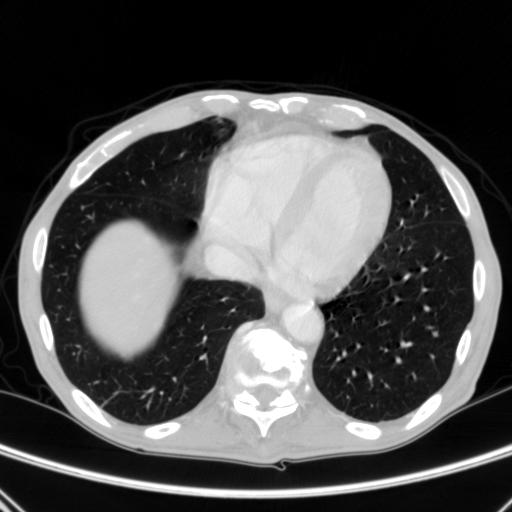nodule: (429, 328, 441, 340)
